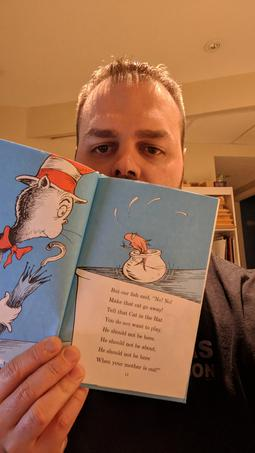text block: (92, 283, 189, 372)
